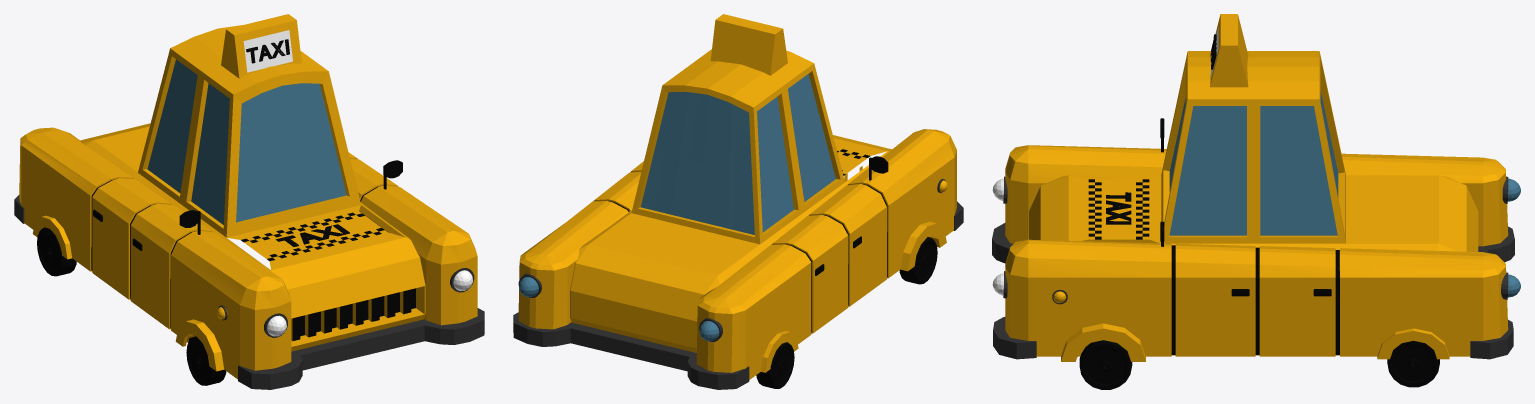
Rendered from 49c0e975-9d5e-4aa8-a6f8-ec92acb4ed91.glb.
3 views of the same model, side by side, from view 1: azimuth 30°, elevation 25°; view 2: azimuth 150°, elevation 25°; view 3: azimuth 270°, elevation 25° (orthographic). The views are drawn at different scales.
Visible parts, largest first — view 1: Object003; view 2: Object003; view 3: Object003.
Boxes of the visible parts, box(x1,y1,x2,y2) form: Object003: box(14, 14, 484, 389); Object003: box(513, 14, 963, 389); Object003: box(992, 14, 1520, 389).
Size of the model in its own units: 36.21 by 38.97 by 63.04.
